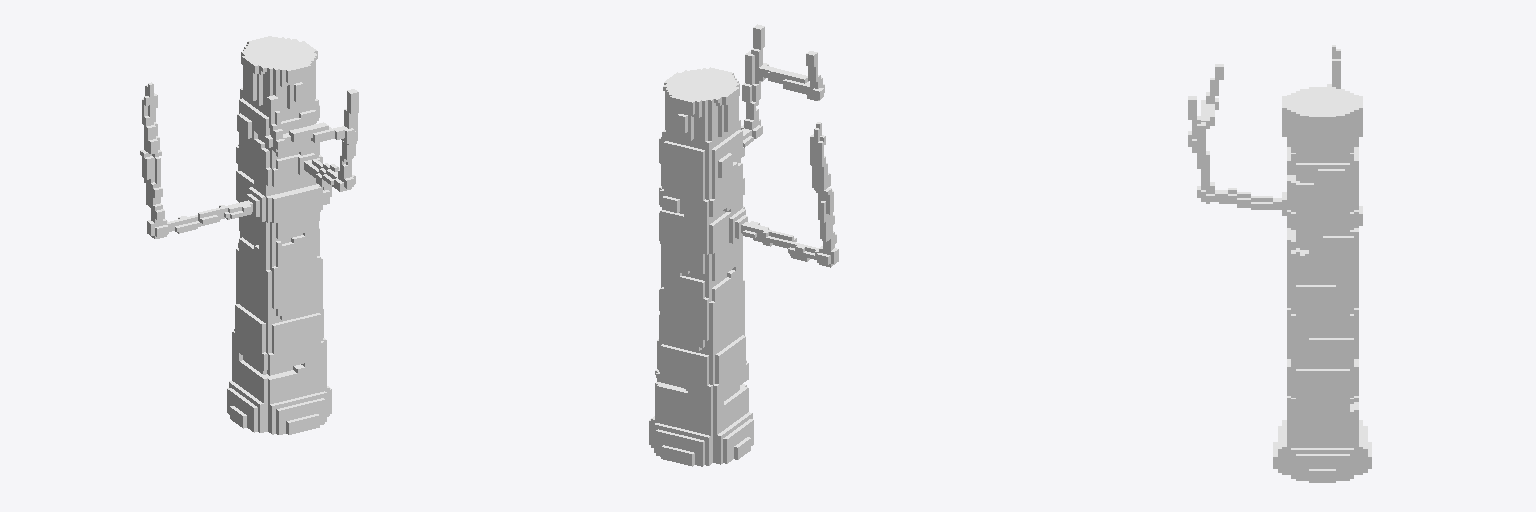
Rendered from trunk_1.obj.
3 renders of one model, left to right at view 1: azimuth 30°, elevation 25°; view 2: azimuth 150°, elevation 25°; view 3: azimuth 270°, elevation 25°, orthographic.
Parts seen in each view (by area): view 1: object 1; view 2: object 1; view 3: object 1.
Part boxes in pixels (left/top/right/bottom): object 1: left=140, top=36, right=358, bottom=434; object 1: left=649, top=24, right=838, bottom=466; object 1: left=1188, top=45, right=1371, bottom=482.
Bounding box in the file's own units: 4.5 × 9 × 4.1.